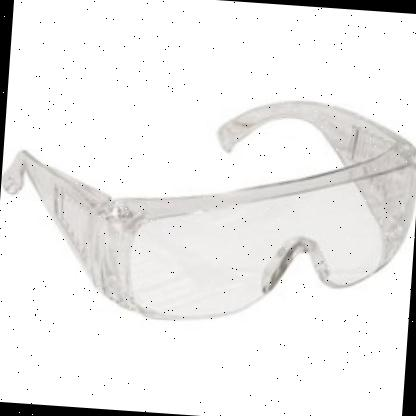oculos: (0, 69, 416, 347)
